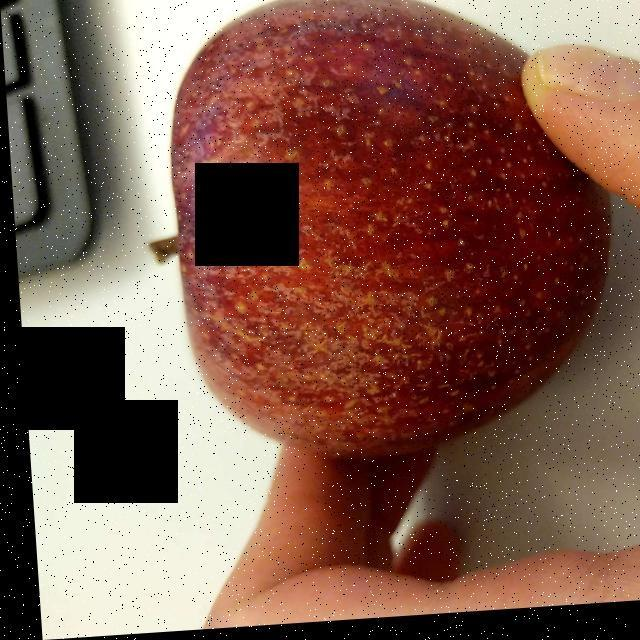apple: (175, 31, 614, 466)
